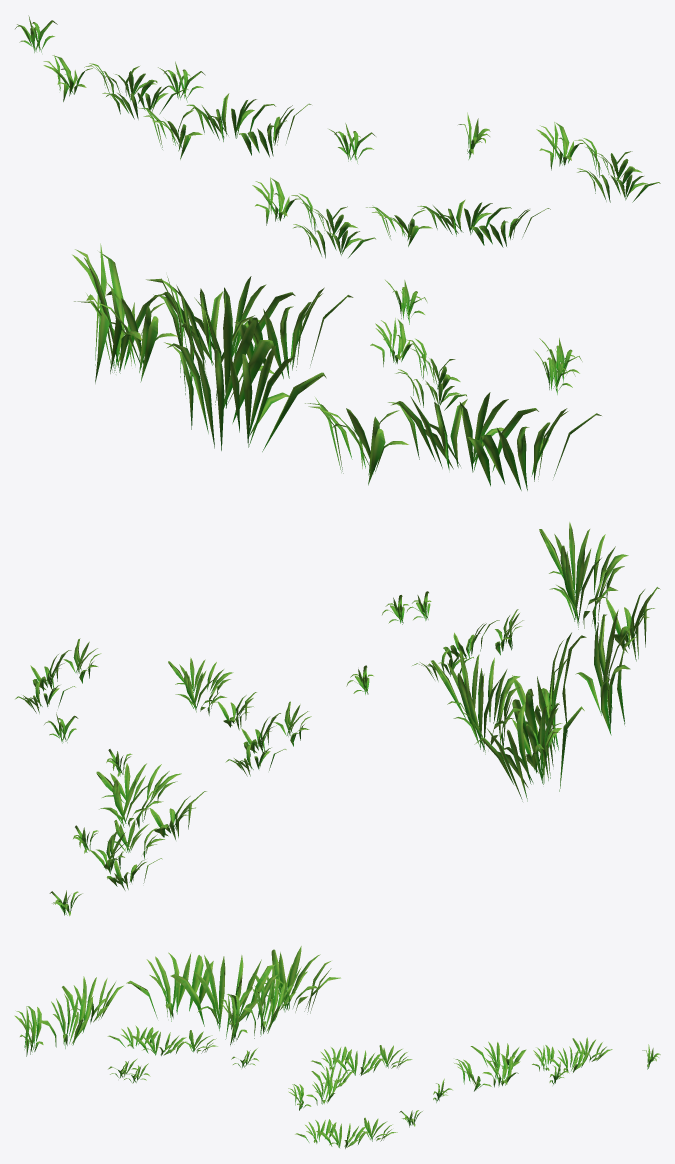
Rendered from cao_fenzu07.fbx.
The picture shows the model from 3 angles, top to bottom: view 1: azimuth 30°, elevation 25°; view 2: azimuth 150°, elevation 25°; view 3: azimuth 270°, elevation 25°; orthographic projection. The views are drawn at different scales.
Parts seen in each view (by area): view 1: cao_06__323_; view 2: cao_06__323_; view 3: cao_06__323_.
Boxes of the visible parts, box(x1,y1,x2,y2) form: cao_06__323_: box(15, 15, 660, 490); cao_06__323_: box(15, 522, 660, 916); cao_06__323_: box(14, 946, 660, 1148).
Bounding box in the file's own units: 1344 × 287 × 2234.
